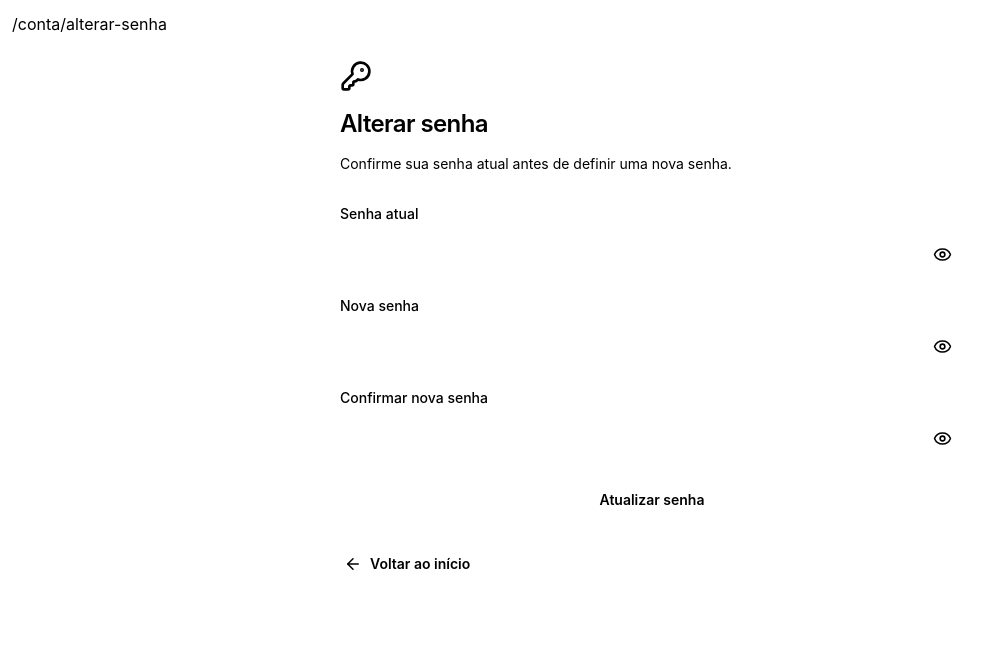
Test case: UpdatePasswordPage › envia uma vez, mostra loading e limpa os campos após sucesso
In the password field labelled "Senha atual": point(652, 254) [340,232,964,276], type "senha-atual"
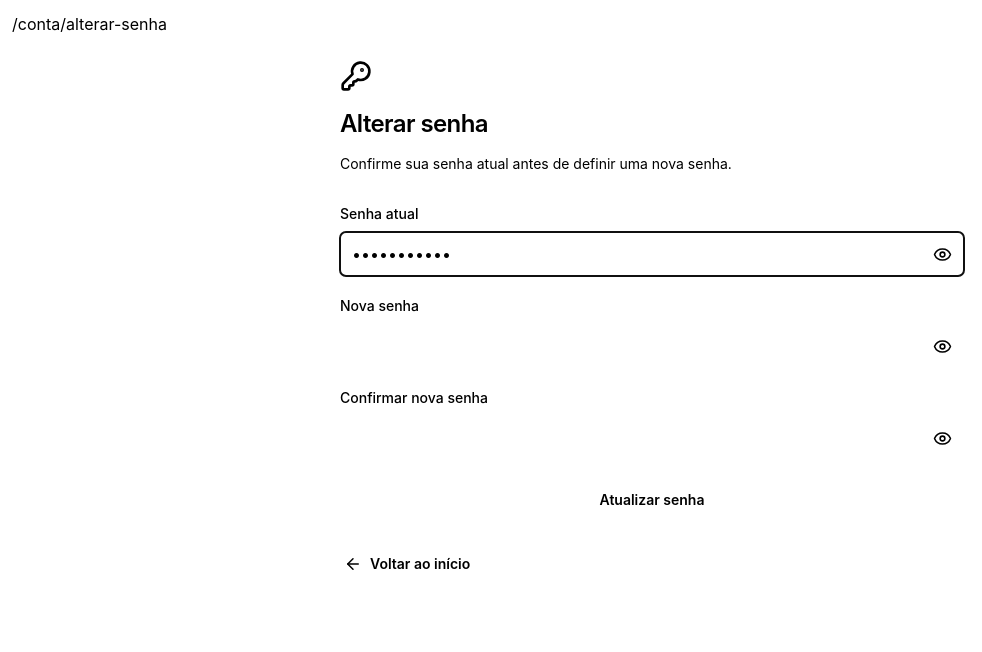
In the password field labelled "Nova senha": point(652, 346) [340,324,964,368], type "senha-nova"
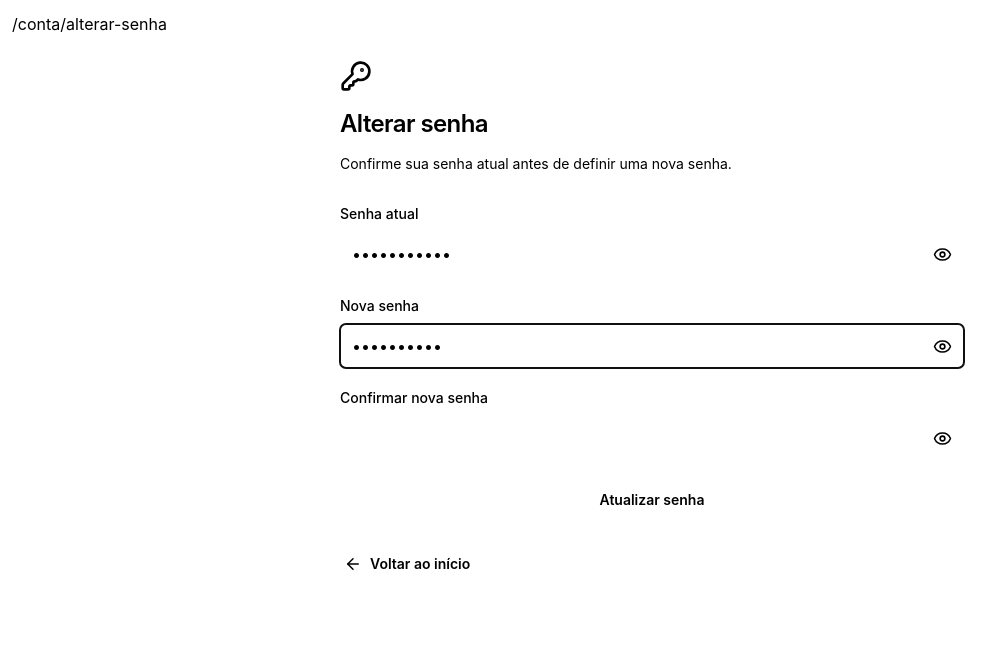
In the password field labelled "Confirmar nova senha": point(652, 438) [340,416,964,460], type "senha-nova"
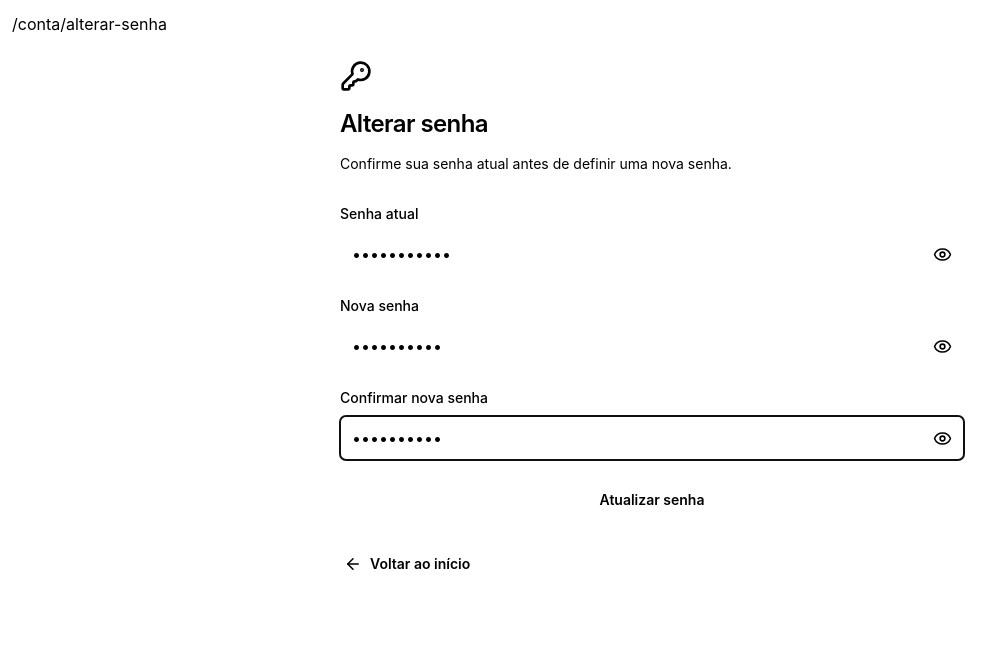
Click the button "Atualizar senha": point(652, 500) [340,480,964,520]
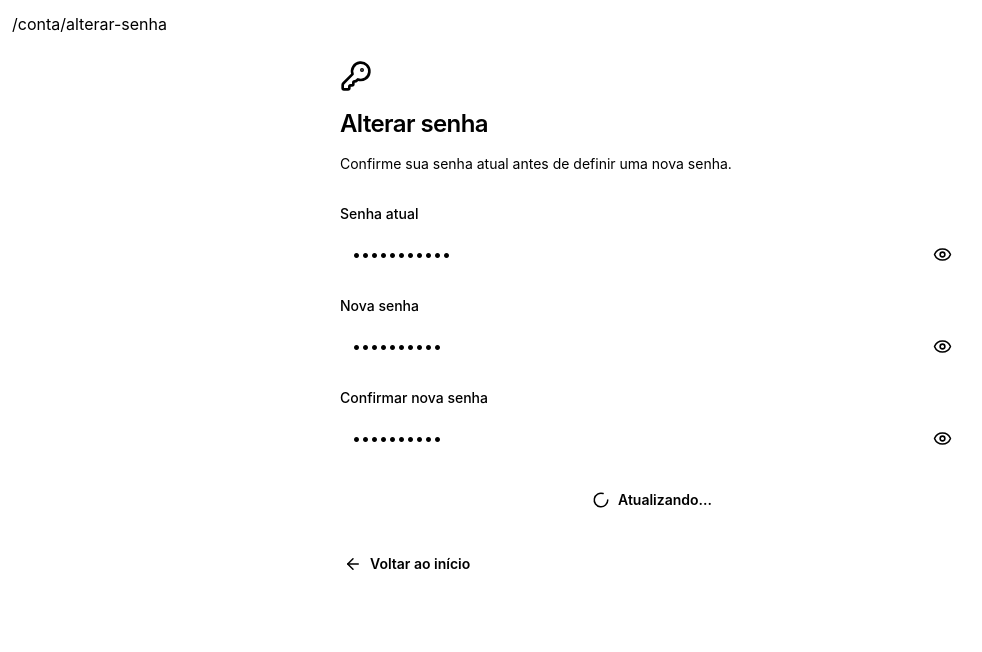
Check: the button "Atualizando..." is disabled
Click the button "Atualizando...": point(652, 500) [340,480,964,520]
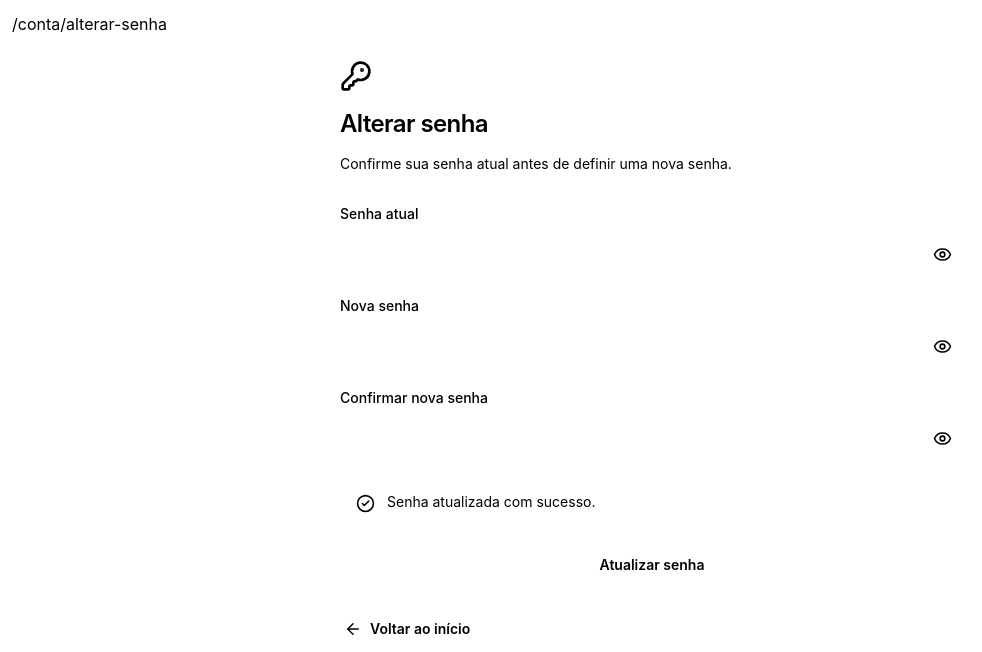
Check: the message reads "Senha atualizada com sucesso.", box [387,493,596,510]
Check: the password field labelled "Senha atual" is empty, box [340,232,964,276]
Check: the password field labelled "Nova senha" is empty, box [340,324,964,368]
